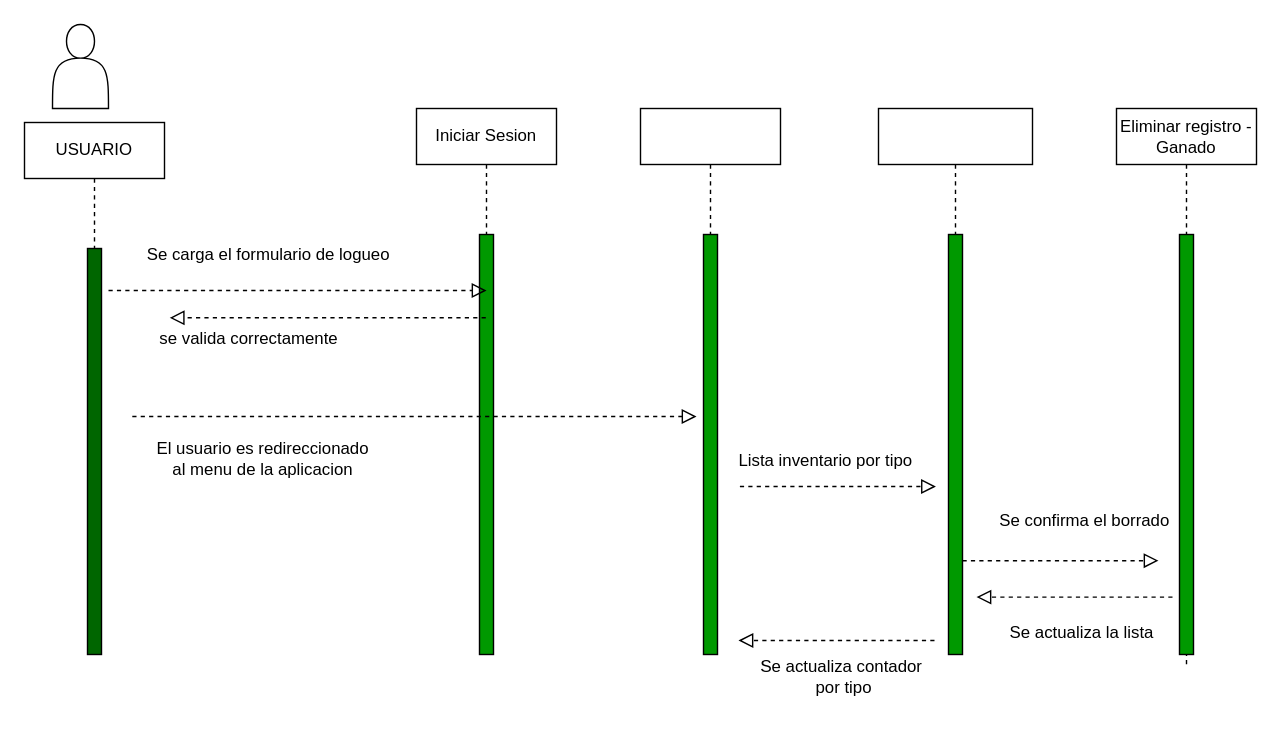
Some shapes in this 1281 by 729 pixel diagram are drawn without their labels. Here are the shapes that lost their labels. From the top down, the centre of each, then its label:
At point (709, 380): "Menu Principal- Tipo de Ganado".
At point (954, 380): "Inventario - Ganado".
